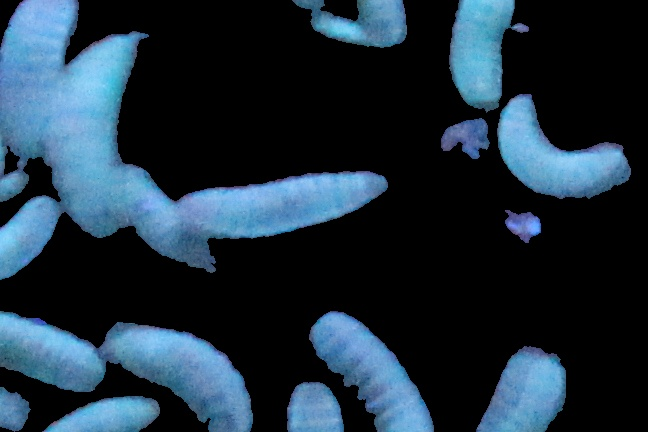larvae: (55, 28, 144, 242), (96, 322, 256, 432), (306, 310, 436, 432), (499, 94, 633, 200), (183, 174, 390, 239), (1, 1, 72, 171), (112, 166, 216, 273), (1, 303, 110, 394), (471, 341, 566, 432), (444, 1, 517, 112), (290, 1, 417, 47), (1, 195, 58, 287), (34, 395, 162, 432), (287, 380, 342, 432), (1, 393, 27, 430)
